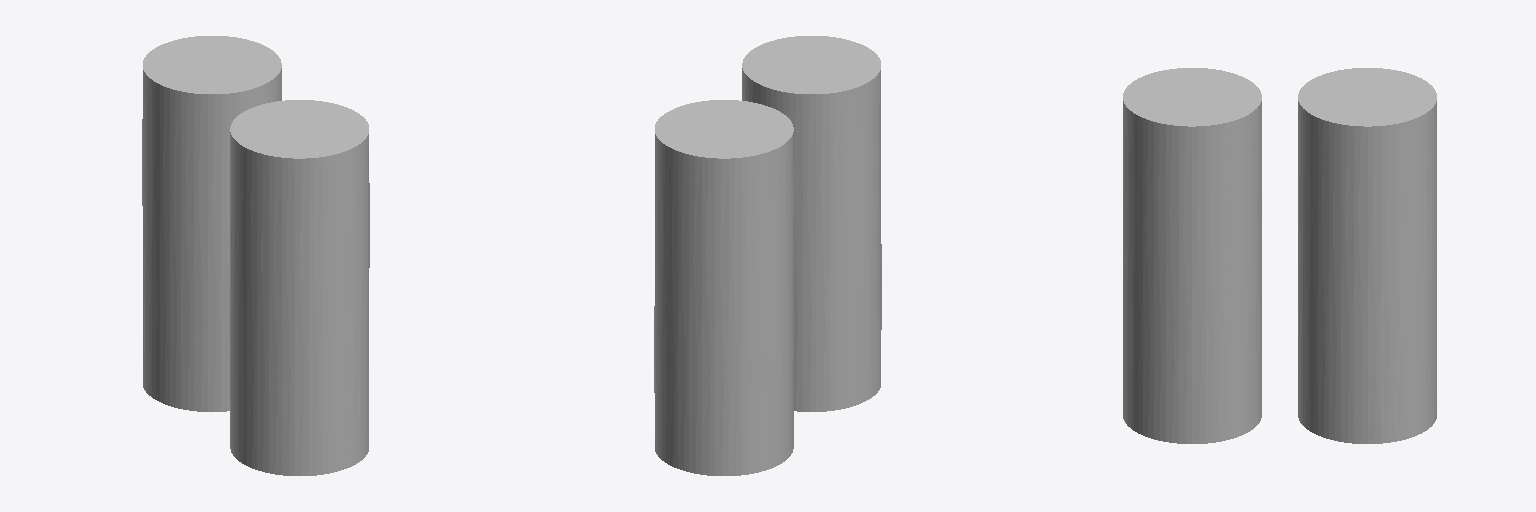
Rendered from double_cylinder.obj.
3 renders of one model, left to right at view 1: azimuth 30°, elevation 25°; view 2: azimuth 150°, elevation 25°; view 3: azimuth 270°, elevation 25°, orthographic.
Parts seen in each view (by area): view 1: Cylinder.001, Cylinder; view 2: Cylinder, Cylinder.001; view 3: Cylinder, Cylinder.001.
Boxes of the visible parts, x1,y1,x2,y2 form: Cylinder.001: [230, 100, 369, 475]; Cylinder: [142, 36, 281, 411]; Cylinder: [654, 100, 793, 475]; Cylinder.001: [742, 36, 881, 411]; Cylinder: [1298, 68, 1436, 443]; Cylinder.001: [1123, 68, 1261, 443].
Bounding box in the file's own units: 0.796 × 2 × 1.8.